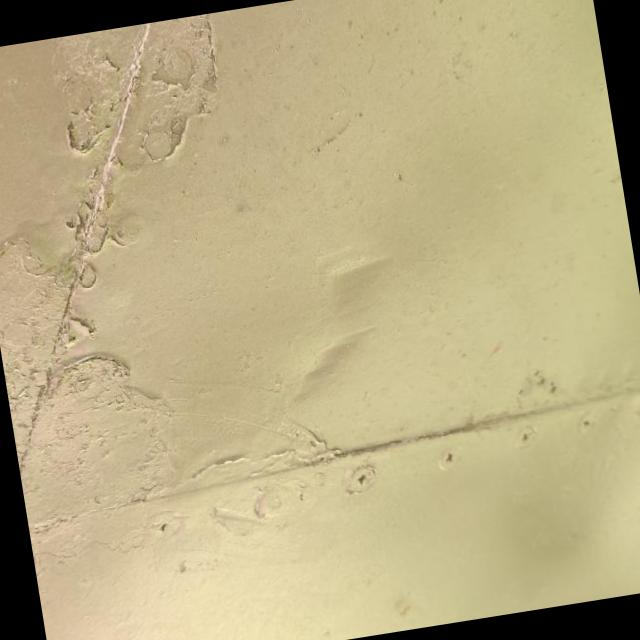Dent: (265, 245, 447, 427)
